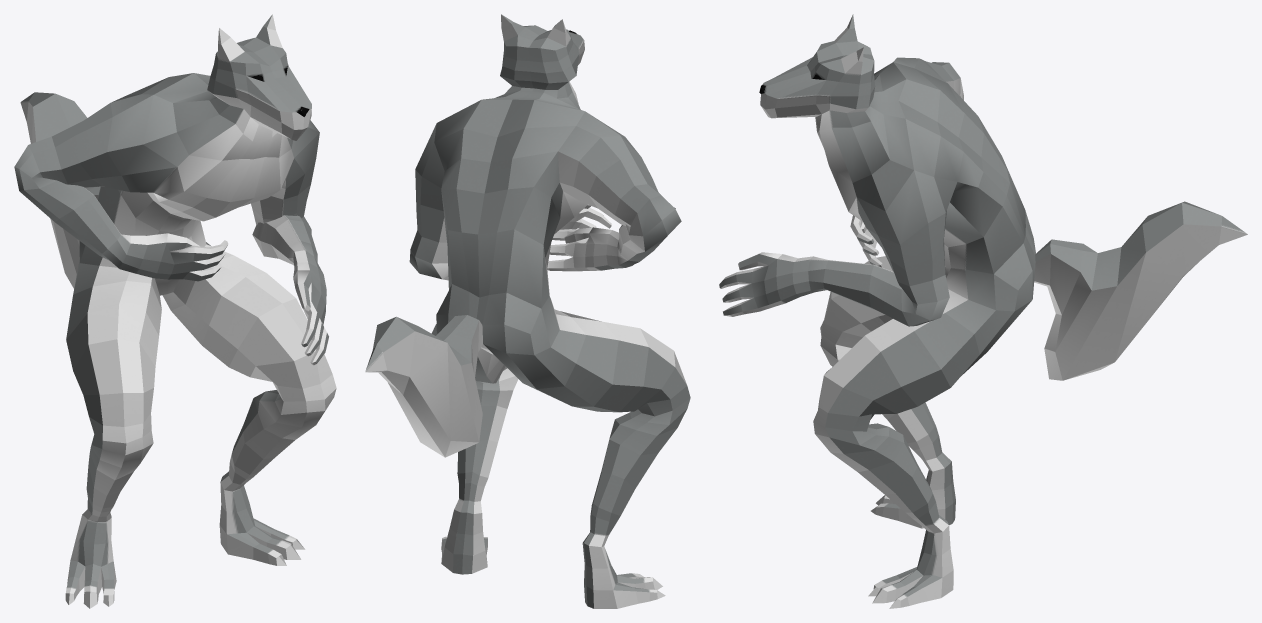
File: WolfIdle_(45).obj
The picture shows the model from 3 angles, left to right: view 1: azimuth 30°, elevation 25°; view 2: azimuth 150°, elevation 25°; view 3: azimuth 270°, elevation 25°; orthographic projection. The views are drawn at different scales.
Parts seen in each view (by area): view 1: Box001; view 2: Box001; view 3: Box001.
Part boxes in pixels (bbox=[...]): Box001: bbox=[14, 14, 336, 608]; Box001: bbox=[365, 14, 690, 608]; Box001: bbox=[719, 14, 1247, 608].
Bounding box in the file's own units: 69.31 × 132 × 116.
